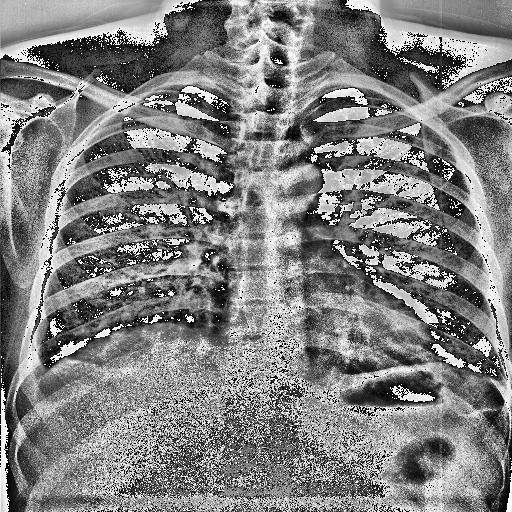10- Pleural effusion: (20, 331, 50, 398), (17, 341, 51, 394), (12, 354, 50, 394)
11- Pleural thickening: (20, 331, 50, 398), (17, 341, 51, 394), (12, 354, 50, 394)
